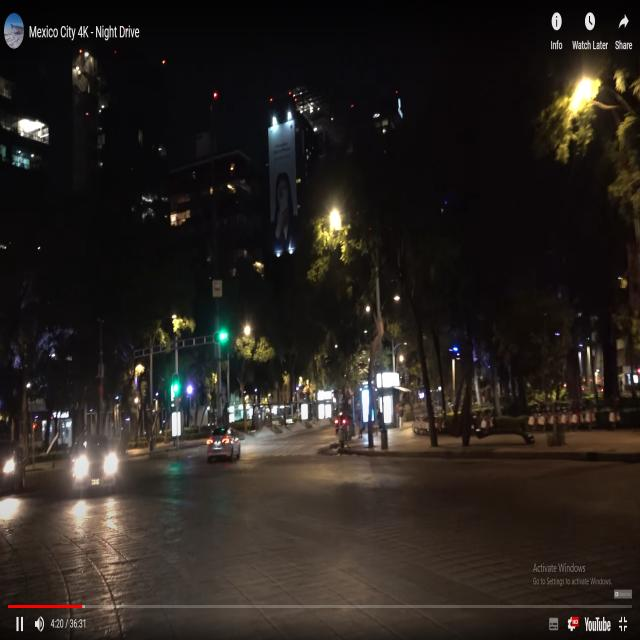headlights: (70, 448, 120, 489)
